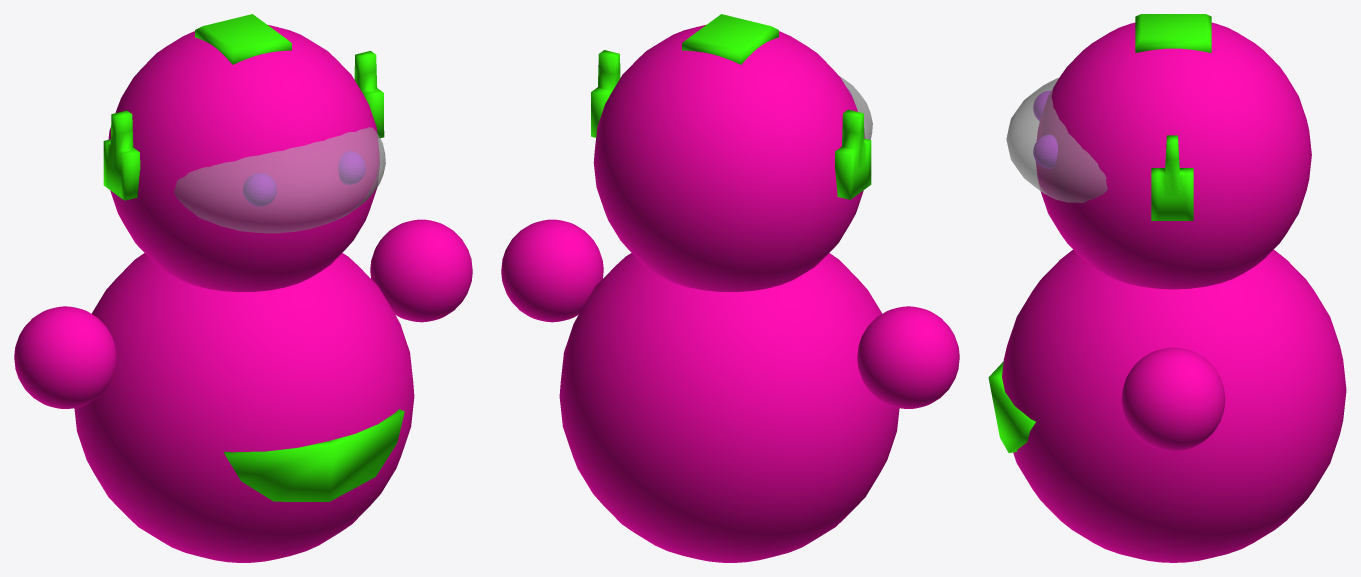
Rendered from cloudy.glb.
The picture shows the model from 3 angles, left to right: view 1: azimuth 30°, elevation 25°; view 2: azimuth 150°, elevation 25°; view 3: azimuth 270°, elevation 25°; orthographic projection.
Parts seen in each view (by area): view 1: Body, Face, Plane.004, Arm_-1, Arm_1, eye2; view 2: Body, Face, Arm_-1, Arm_1; view 3: Body, Face, Arm_1, Plane.004, eye2.
Part boxes in pixels (left/top/right/bottom): Body: left=74, top=253, right=414, bottom=562; Face: left=103, top=14, right=385, bottom=292; Plane.004: left=224, top=409, right=404, bottom=501; Arm_-1: left=14, top=306, right=116, bottom=408; Arm_1: left=370, top=219, right=472, bottom=322; eye2: left=243, top=151, right=365, bottom=206; Body: left=559, top=253, right=899, bottom=562; Face: left=591, top=14, right=872, bottom=292; Arm_-1: left=857, top=306, right=959, bottom=408; Arm_1: left=501, top=219, right=603, bottom=322; Body: left=1002, top=249, right=1346, bottom=562; Face: left=1006, top=14, right=1311, bottom=289; Arm_1: left=1121, top=347, right=1225, bottom=451; Plane.004: left=988, top=361, right=1035, bottom=452; eye2: left=1033, top=91, right=1057, bottom=168.
Size of the model in its own units: 3 by 3.32 by 2.07.
